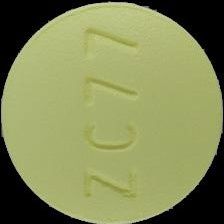68084-274: (0, 0, 224, 224)
